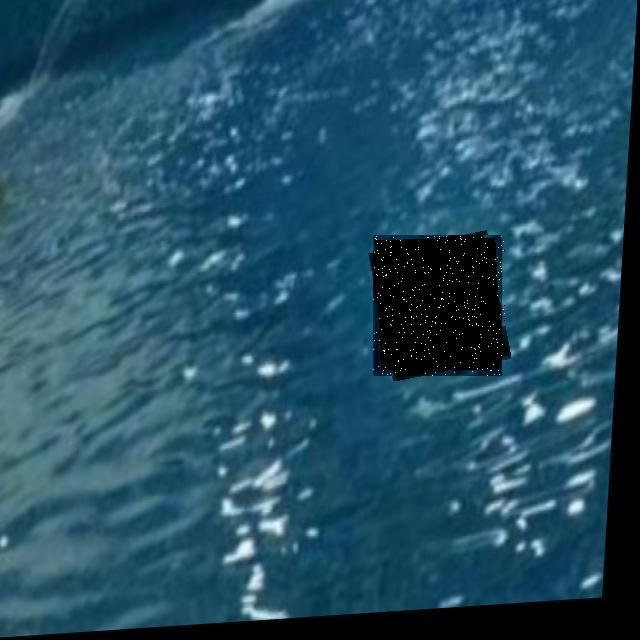swimming: (374, 235, 506, 376)
